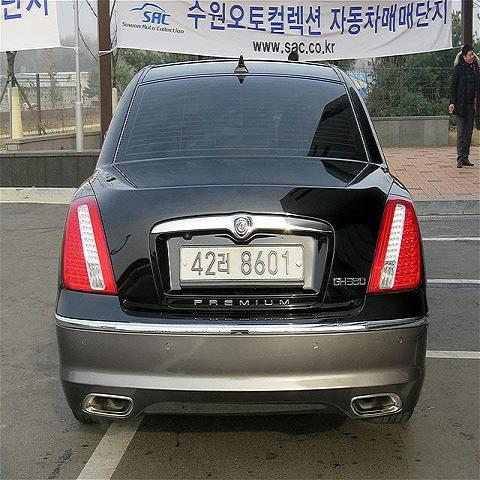LP: (171, 241, 310, 289)
